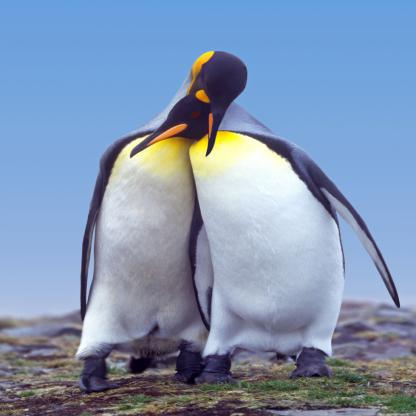Penguin: (121, 79, 416, 391), (57, 44, 294, 398)
